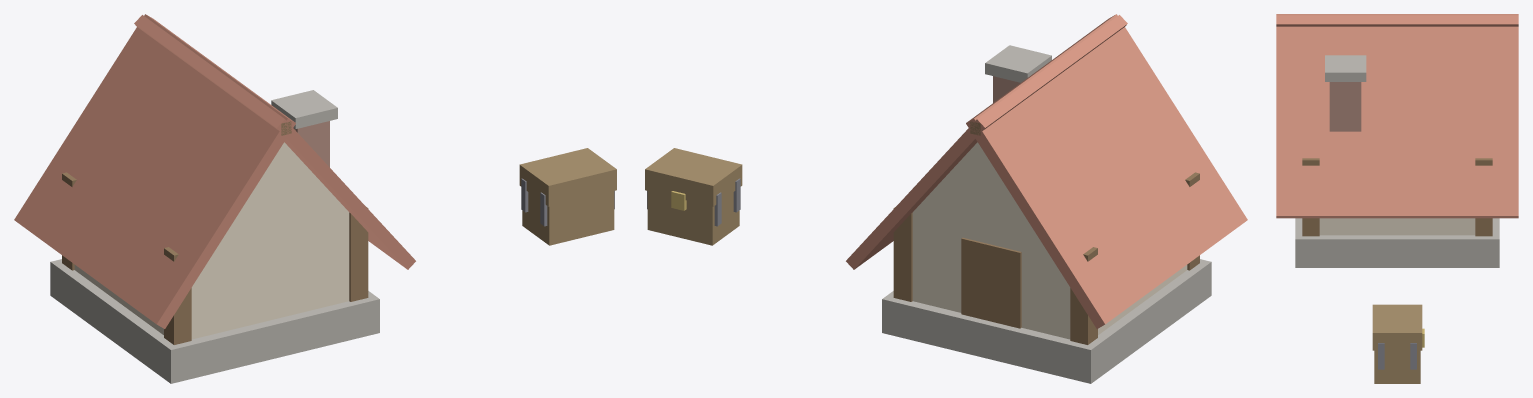
The model's file is buildings.glb.
The picture shows the model from 3 angles, left to right: view 1: azimuth 30°, elevation 25°; view 2: azimuth 150°, elevation 25°; view 3: azimuth 270°, elevation 25°; orthographic projection. The views are drawn at different scales.
Parts seen in each view (by area): view 1: Hut, Chest; view 2: Hut, Chest; view 3: Hut, Chest.
Part boxes in pixels (bbox=[...]): Hut: bbox=[14, 14, 415, 383]; Chest: bbox=[519, 148, 616, 245]; Hut: bbox=[846, 14, 1247, 383]; Chest: bbox=[645, 148, 742, 245]; Hut: bbox=[1276, 14, 1518, 267]; Chest: bbox=[1372, 304, 1424, 383].
Bounding box in the file's own units: 8.81 × 4.02 × 4.2.
